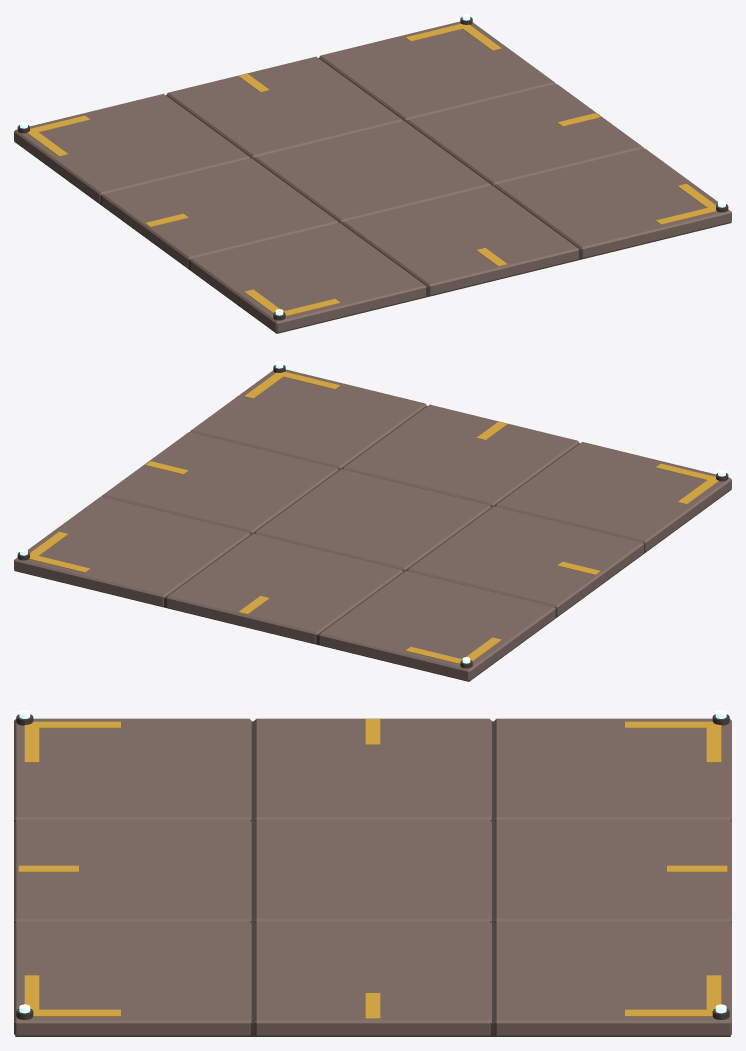
Rendered from pad_build.glb.
3 renders of one model, top to bottom at view 1: azimuth 30°, elevation 25°; view 2: azimuth 150°, elevation 25°; view 3: azimuth 270°, elevation 25°, orthographic. The views are drawn at different scales.
Visible parts, largest first — view 1: pad; view 2: pad; view 3: pad, mark_y-11, mark_y11, mark_y1-1, mark_y-1-1, mark_x-1-1, mark_x-11, mark_x1-1, mark_x11.
Boxes of the visible parts, x1,y1,x2,y2 form: pad: (14,21,731,333); pad: (14,369,731,681); pad: (14,718,731,1036); mark_y-11: (625,721,720,728); mark_y11: (625,1009,712,1016); mark_y1-1: (33,1009,120,1016); mark_y-1-1: (31,721,120,728); mark_x-1-1: (24,721,39,762); mark_x-11: (706,721,721,762); mark_x1-1: (24,975,39,1016); mark_x11: (706,975,721,1016).
Size of what is drawn, in the model's own units: 5.98 by 0.24 by 5.98.
